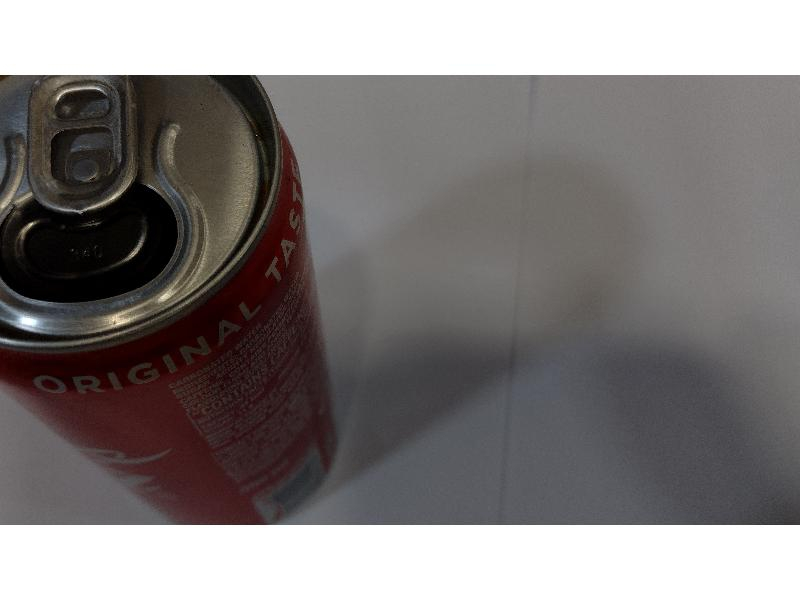can: (0, 76, 344, 522)
